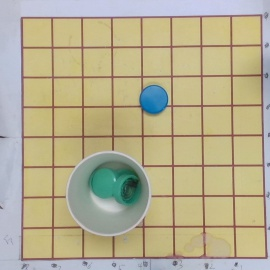blue: (139, 85, 168, 115)
cup_green: (65, 147, 157, 236)
